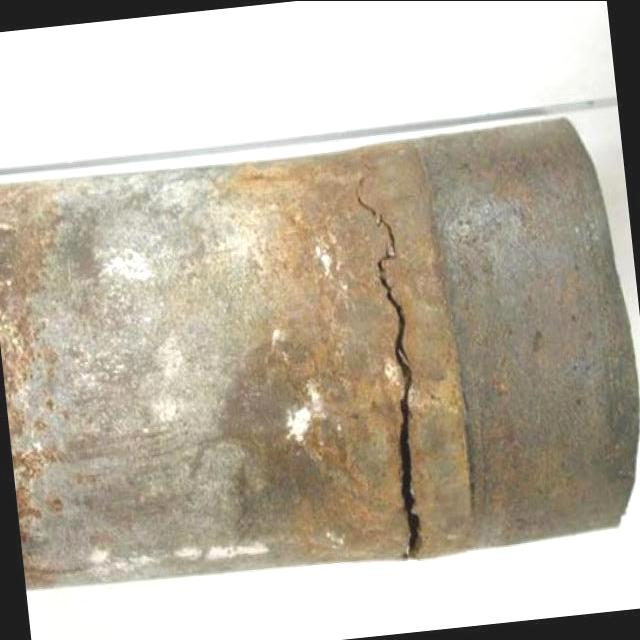defect: (354, 171, 434, 561)
